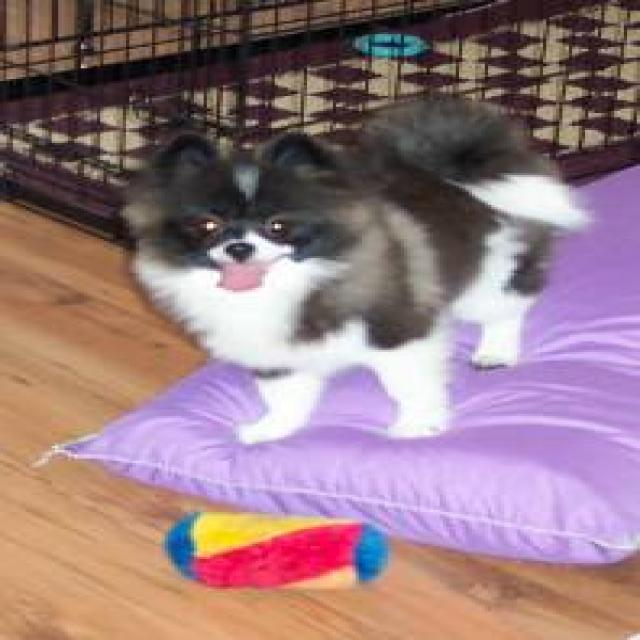dog-pomeranian: (123, 96, 595, 459)
